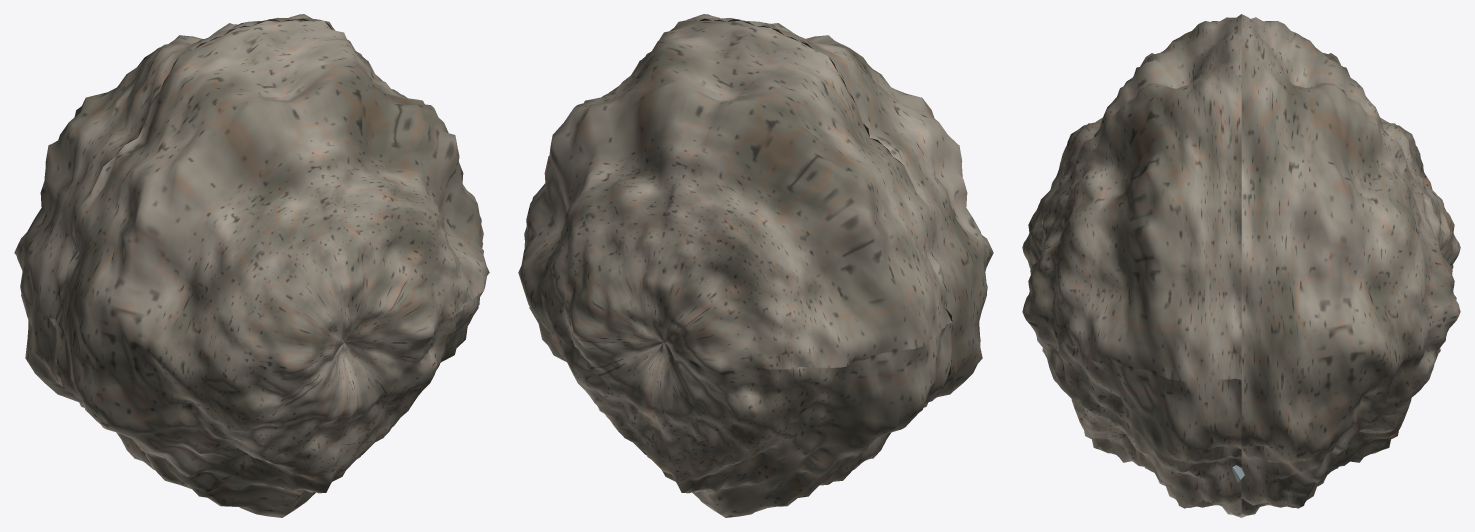
File: celestite-study-v2.glb
3 views of the same model, side by side, from view 1: azimuth 30°, elevation 25°; view 2: azimuth 150°, elevation 25°; view 3: azimuth 270°, elevation 25° (orthographic).
Parts seen in each view (by area): view 1: Closed_front, Closed_back; view 2: Closed_back, Closed_front; view 3: Closed_back, Closed_front.
Boxes of the visible parts, left/top/right/bottom form: Closed_front: left=55, top=20, right=489, bottom=517; Closed_back: left=14, top=14, right=383, bottom=469; Closed_back: left=518, top=20, right=952, bottom=517; Closed_front: left=613, top=14, right=993, bottom=469; Closed_back: left=1241, top=14, right=1460, bottom=517; Closed_front: left=1022, top=14, right=1241, bottom=517.
Bounding box in the file's own units: 3.02 × 3.48 × 2.86.
8 materials, 3 textured.
